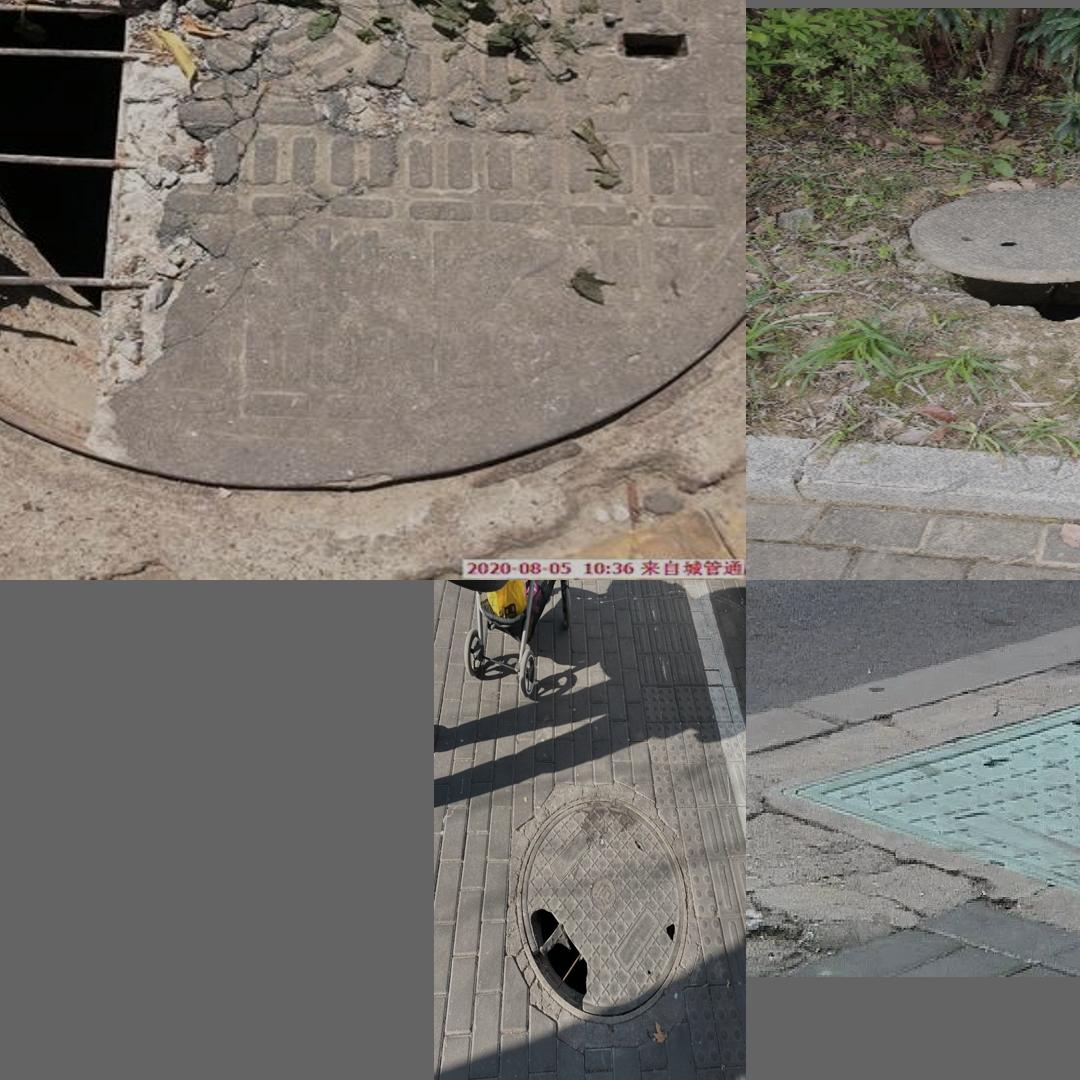broke: (0, 0, 723, 483), (784, 677, 1080, 922), (516, 794, 688, 1025), (909, 186, 1080, 286)
